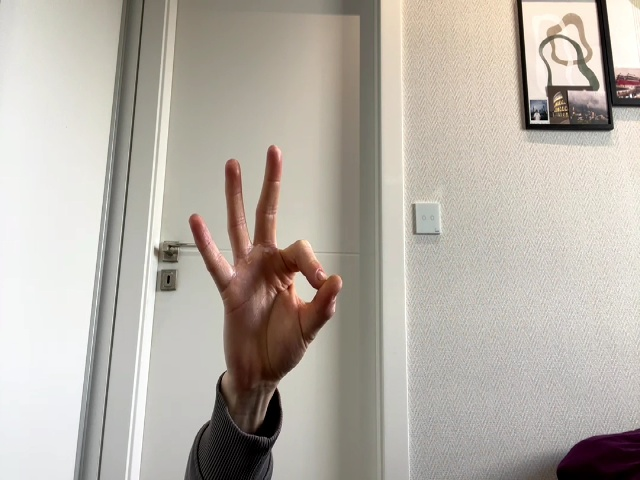O: (190, 145, 343, 396)
